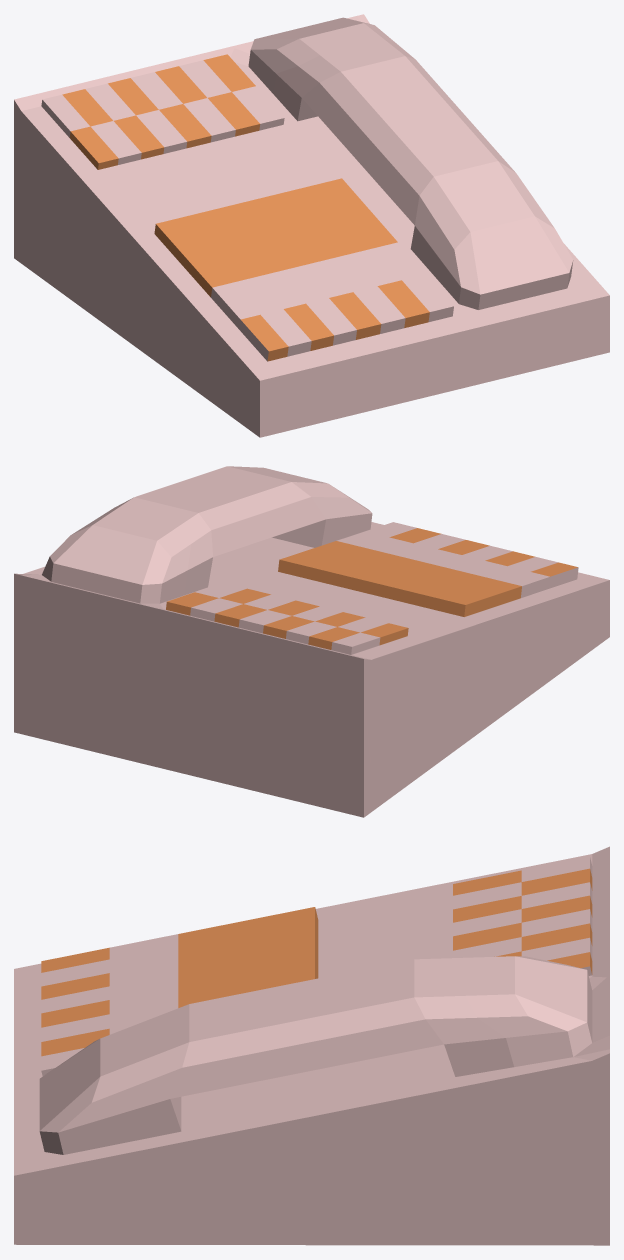
The model's file is Phone.fbx.
3 views of the same model, one above another, from view 1: azimuth 30°, elevation 25°; view 2: azimuth 150°, elevation 25°; view 3: azimuth 270°, elevation 25° (orthographic). The views are drawn at different scales.
Parts seen in each view (by area): view 1: Cube.051; view 2: Cube.051; view 3: Cube.051.
Boxes of the visible parts, bbox=[...] form: Cube.051: bbox=[14, 14, 609, 437]; Cube.051: bbox=[14, 466, 609, 817]; Cube.051: bbox=[14, 846, 609, 1245].
Size of the model in its own units: 30.62 by 15.74 by 37.29.
